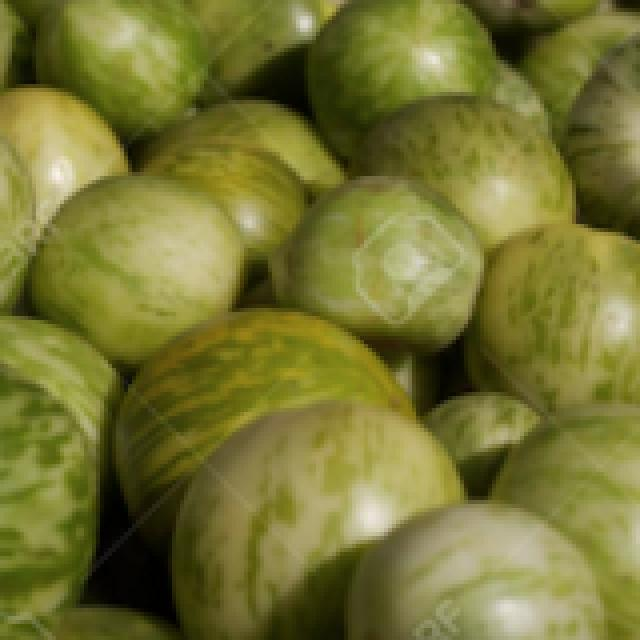yesil: (5, 19, 640, 636)
